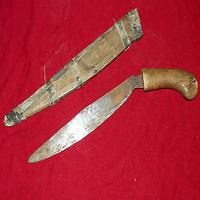knife: (20, 66, 200, 169)
